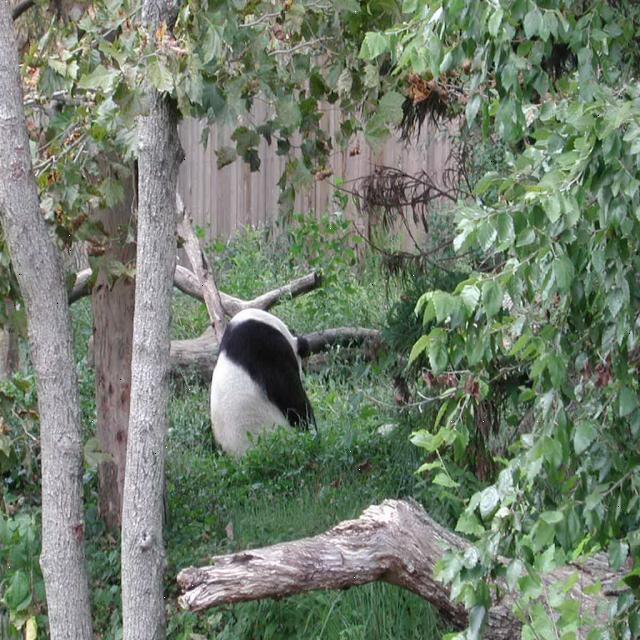panda: (207, 307, 317, 469)
